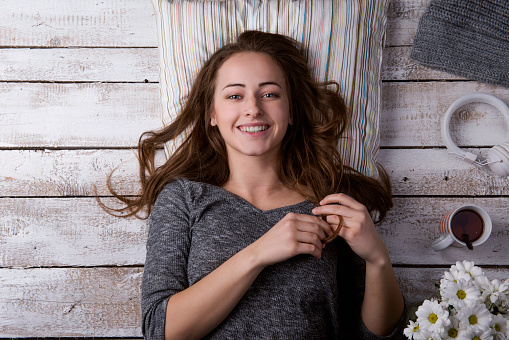deitado: (117, 22, 395, 340)
